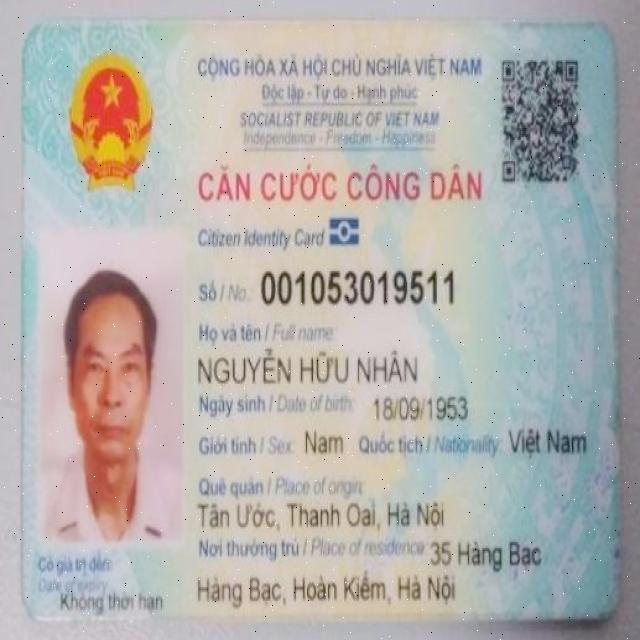current_place: (194, 569, 464, 608), (426, 530, 545, 569)
dob: (370, 393, 470, 423)
expire_date: (60, 588, 164, 613)
gender: (300, 424, 348, 459)
id: (261, 270, 457, 306)
name: (193, 347, 422, 387)
nationality: (505, 423, 593, 462)
origin_place: (197, 497, 446, 536)
